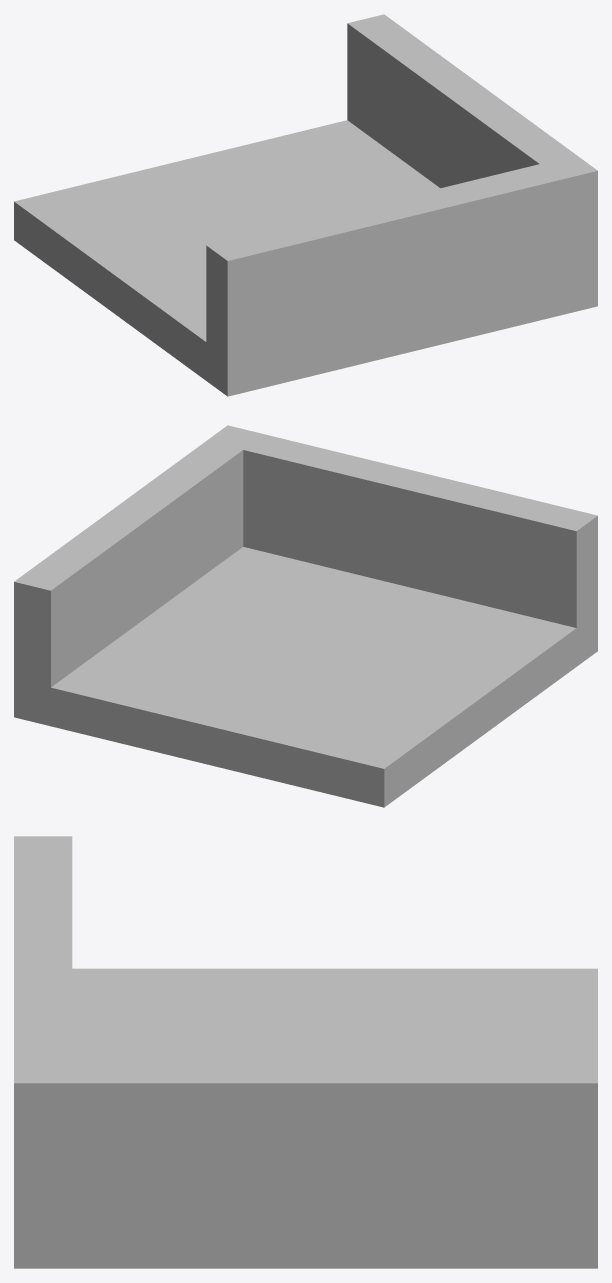
The model's file is MetalRoof_Corner_Small.glb.
3 views of the same model, one above another, from view 1: azimuth 30°, elevation 25°; view 2: azimuth 150°, elevation 25°; view 3: azimuth 270°, elevation 25° (orthographic). The views are drawn at different scales.
Parts seen in each view (by area): view 1: roof_flat_corner_small_metal; view 2: roof_flat_corner_small_metal; view 3: roof_flat_corner_small_metal.
Part boxes in pixels (left/top/right/bottom): roof_flat_corner_small_metal: left=14, top=14, right=597, bottom=396; roof_flat_corner_small_metal: left=14, top=425, right=597, bottom=807; roof_flat_corner_small_metal: left=14, top=836, right=597, bottom=1268.
Size of what is drawn, in the model's own units: 2 by 0.7 by 2.
1 material, 1 textured.
